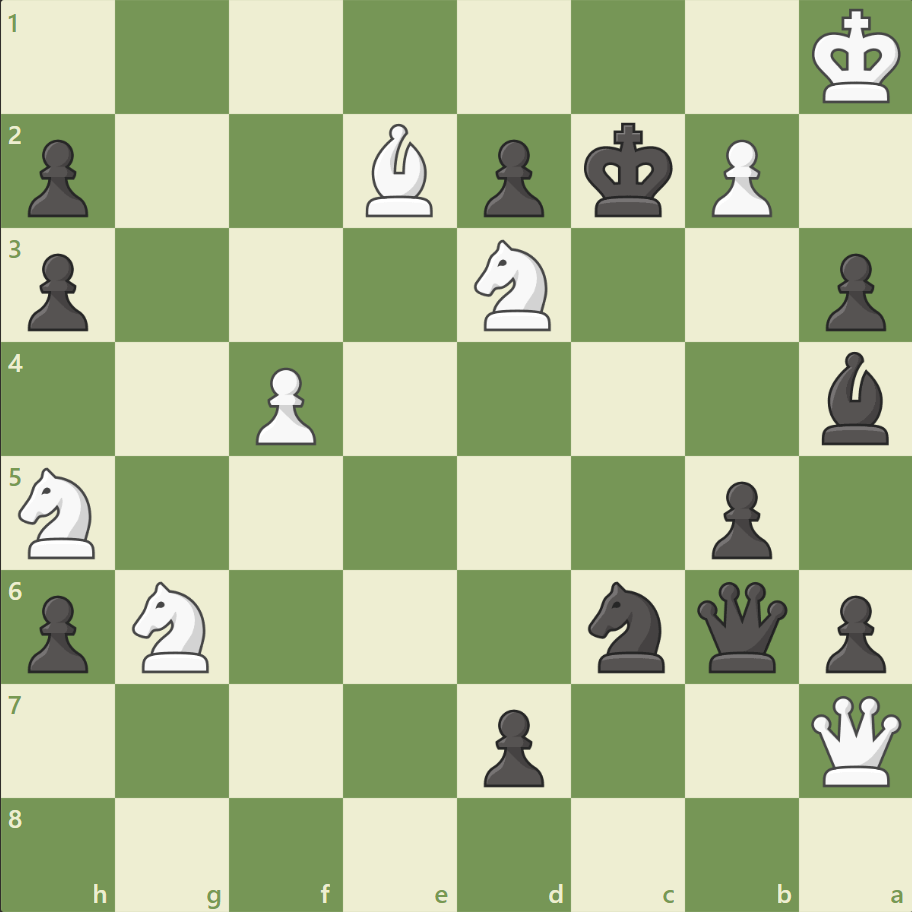B: (358, 120, 442, 222)
K: (806, 4, 906, 112)
N: (124, 575, 222, 677), (11, 461, 108, 564), (465, 234, 562, 337)
P: (247, 359, 322, 450), (701, 132, 776, 223)
Q: (805, 690, 904, 789)
b: (812, 347, 896, 449)
k: (579, 117, 679, 225)
n: (579, 575, 676, 677)
p: (474, 700, 549, 791), (20, 586, 95, 677), (701, 473, 776, 564), (20, 246, 95, 337), (474, 132, 549, 223), (20, 132, 95, 223), (815, 586, 889, 677), (815, 246, 889, 337)
q: (691, 576, 790, 676)
